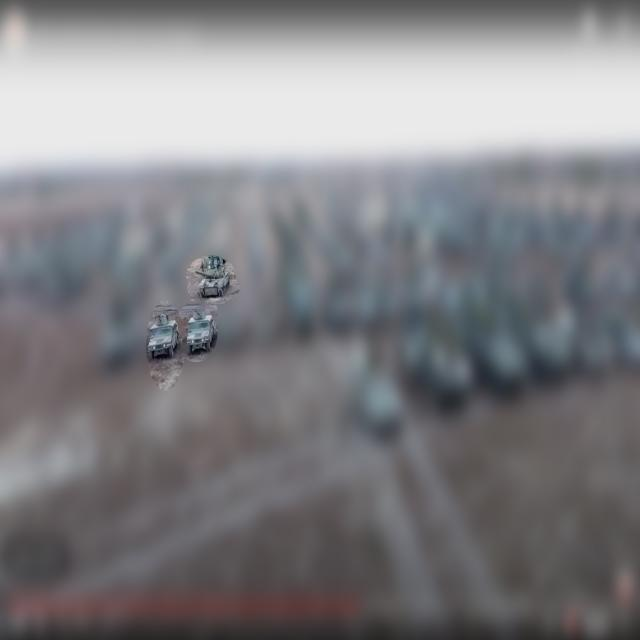tank: (195, 260, 230, 300)
